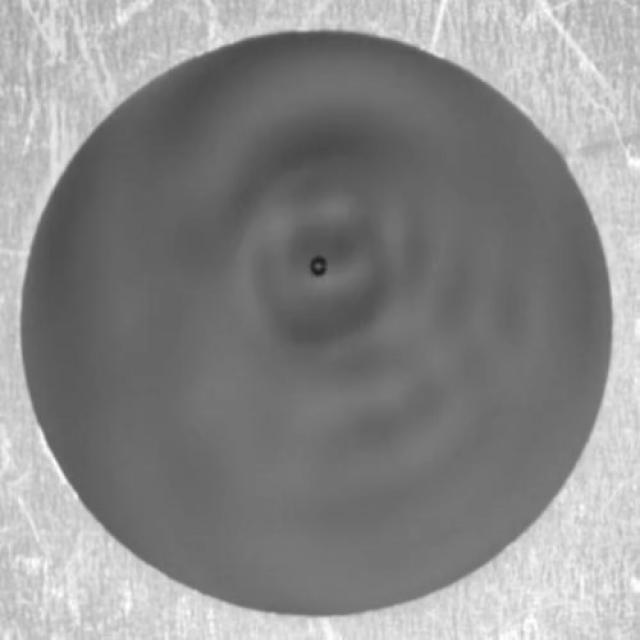droplet: (311, 254, 328, 280)
